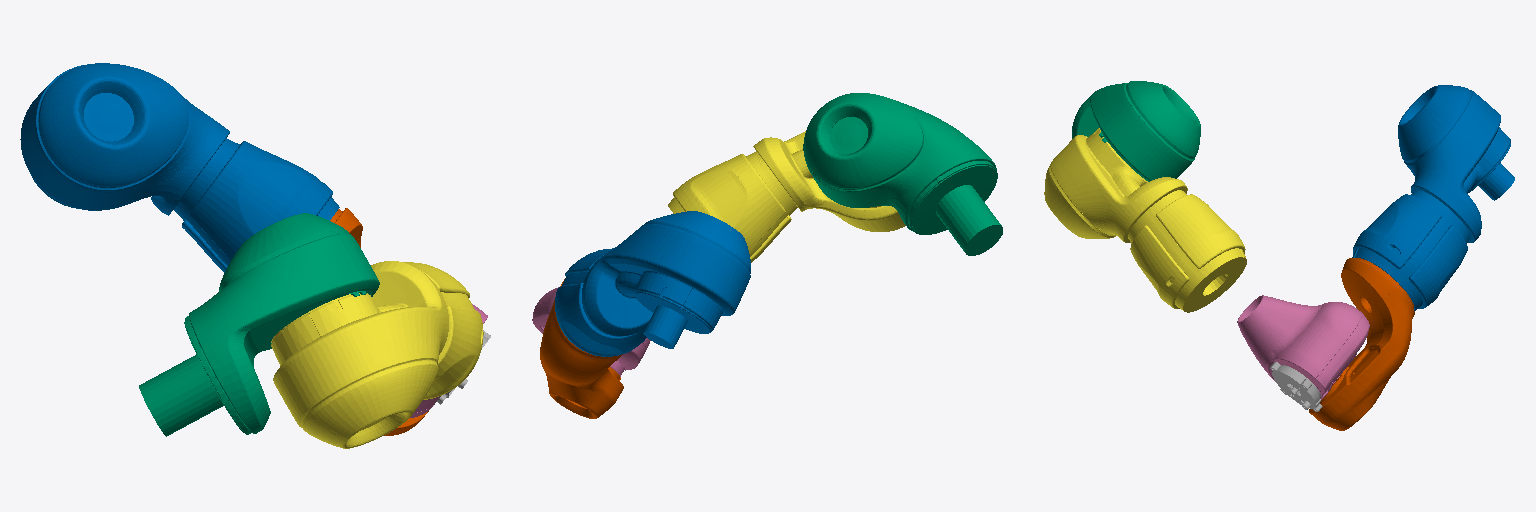
robot.urdf — IRB14000_rev01:
<?xml version="1.0" ?>
<robot name="IRB14000_rev01">

<link name="base_link">
  <inertial>
    <origin xyz="-0.1806083300371626 -3.533146342719389e-05 0.16501432096968796" rpy="0 0 0"/>
    <mass value="355.07112469493865"/>
    <inertia ixx="13.237211" iyy="14.852513" izz="6.557715" ixy="-0.00171" iyz="-0.012269" ixz="-0.102455"/>
  </inertial>
  <visual>
    <origin xyz="0 0 0" rpy="0 0 0"/>
    <geometry>
      <mesh filename="package://IRB14000_rev01_description/meshes/base_link.stl" scale="0.001 0.001 0.001"/>
    </geometry>
    <material name="silver"/>
  </visual>
  <collision>
    <origin xyz="0 0 0" rpy="0 0 0"/>
    <geometry>
      <mesh filename="package://IRB14000_rev01_description/meshes/base_link.stl" scale="0.001 0.001 0.001"/>
    </geometry>
  </collision>
</link>

<link name="IRB14000_rev01_Link1_L_v1_1">
  <inertial>
    <origin xyz="0.04073333496198922 0.040935345541061985 0.015261260614221506" rpy="0 0 0"/>
    <mass value="7.563188104200824"/>
    <inertia ixx="0.019728" iyy="0.015934" izz="0.025359" ixy="-0.007851" iyz="-0.004141" ixz="-0.002338"/>
  </inertial>
  <visual>
    <origin xyz="-0.051106 -0.071479 -0.413506" rpy="0 0 0"/>
    <geometry>
      <mesh filename="package://IRB14000_rev01_description/meshes/IRB14000_rev01_Link1_L_v1_1.stl" scale="0.001 0.001 0.001"/>
    </geometry>
    <material name="silver"/>
  </visual>
  <collision>
    <origin xyz="-0.051106 -0.071479 -0.413506" rpy="0 0 0"/>
    <geometry>
      <mesh filename="package://IRB14000_rev01_description/meshes/IRB14000_rev01_Link1_L_v1_1.stl" scale="0.001 0.001 0.001"/>
    </geometry>
  </collision>
</link>

<link name="IRB14000_rev01_Link2_L_v1_1">
  <inertial>
    <origin xyz="0.0596729752148423 -0.007882861134115904 0.03919033075530104" rpy="0 0 0"/>
    <mass value="11.070799725042463"/>
    <inertia ixx="0.020709" iyy="0.051591" izz="0.055916" ixy="-0.013939" iyz="-0.002565" ixz="-0.007311"/>
  </inertial>
  <visual>
    <origin xyz="-0.119234 -0.133836 -0.46976" rpy="0 0 0"/>
    <geometry>
      <mesh filename="package://IRB14000_rev01_description/meshes/IRB14000_rev01_Link2_L_v1_1.stl" scale="0.001 0.001 0.001"/>
    </geometry>
    <material name="silver"/>
  </visual>
  <collision>
    <origin xyz="-0.119234 -0.133836 -0.46976" rpy="0 0 0"/>
    <geometry>
      <mesh filename="package://IRB14000_rev01_description/meshes/IRB14000_rev01_Link2_L_v1_1.stl" scale="0.001 0.001 0.001"/>
    </geometry>
  </collision>
</link>

<link name="IRB14000_rev01_Link3_L_v1_1">
  <inertial>
    <origin xyz="0.05564804075747504 0.023708363033178914 -0.0061156014923368085" rpy="0 0 0"/>
    <mass value="5.579966748579002"/>
    <inertia ixx="0.006105" iyy="0.013925" izz="0.014722" ixy="-0.002356" iyz="-0.000158" ixz="0.001632"/>
  </inertial>
  <visual>
    <origin xyz="-0.275739 -0.165887 -0.543198" rpy="0 0 0"/>
    <geometry>
      <mesh filename="package://IRB14000_rev01_description/meshes/IRB14000_rev01_Link3_L_v1_1.stl" scale="0.001 0.001 0.001"/>
    </geometry>
    <material name="silver"/>
  </visual>
  <collision>
    <origin xyz="-0.275739 -0.165887 -0.543198" rpy="0 0 0"/>
    <geometry>
      <mesh filename="package://IRB14000_rev01_description/meshes/IRB14000_rev01_Link3_L_v1_1.stl" scale="0.001 0.001 0.001"/>
    </geometry>
  </collision>
</link>

<link name="IRB14000_rev01_Link4_L_v1_1">
  <inertial>
    <origin xyz="0.04754075136522001 -0.04572861064128683 -0.0007970276750837169" rpy="0 0 0"/>
    <mass value="9.26921603729842"/>
    <inertia ixx="0.022095" iyy="0.039944" izz="0.03382" ixy="0.008099" iyz="-0.005273" ixz="0.013896"/>
  </inertial>
  <visual>
    <origin xyz="-0.364071 -0.175484 -0.550654" rpy="0 0 0"/>
    <geometry>
      <mesh filename="package://IRB14000_rev01_description/meshes/IRB14000_rev01_Link4_L_v1_1.stl" scale="0.001 0.001 0.001"/>
    </geometry>
    <material name="silver"/>
  </visual>
  <collision>
    <origin xyz="-0.364071 -0.175484 -0.550654" rpy="0 0 0"/>
    <geometry>
      <mesh filename="package://IRB14000_rev01_description/meshes/IRB14000_rev01_Link4_L_v1_1.stl" scale="0.001 0.001 0.001"/>
    </geometry>
  </collision>
</link>

<link name="IRB14000_rev01_Link5_L_v1_1">
  <inertial>
    <origin xyz="0.023112773812127285 -0.011245840587332231 -0.04761625259631325" rpy="0 0 0"/>
    <mass value="2.695952167724137"/>
    <inertia ixx="0.005888" iyy="0.006149" izz="0.002687" ixy="0.000386" iyz="-0.001411" ixz="0.001593"/>
  </inertial>
  <visual>
    <origin xyz="-0.489888 -0.079615 -0.488717" rpy="0 0 0"/>
    <geometry>
      <mesh filename="package://IRB14000_rev01_description/meshes/IRB14000_rev01_Link5_L_v1_1.stl" scale="0.001 0.001 0.001"/>
    </geometry>
    <material name="silver"/>
  </visual>
  <collision>
    <origin xyz="-0.489888 -0.079615 -0.488717" rpy="0 0 0"/>
    <geometry>
      <mesh filename="package://IRB14000_rev01_description/meshes/IRB14000_rev01_Link5_L_v1_1.stl" scale="0.001 0.001 0.001"/>
    </geometry>
  </collision>
</link>

<link name="IRB14000_rev01_Link6_L_v1_1">
  <inertial>
    <origin xyz="-0.004491641394148149 -0.031703355476269665 0.05361645129751996" rpy="0 0 0"/>
    <mass value="3.922596322846886"/>
    <inertia ixx="0.004497" iyy="0.003956" izz="0.004715" ixy="-0.000211" iyz="6.9e-05" ixz="6e-06"/>
  </inertial>
  <visual>
    <origin xyz="-0.53039 -0.042127 -0.388389" rpy="0 0 0"/>
    <geometry>
      <mesh filename="package://IRB14000_rev01_description/meshes/IRB14000_rev01_Link6_L_v1_1.stl" scale="0.001 0.001 0.001"/>
    </geometry>
    <material name="silver"/>
  </visual>
  <collision>
    <origin xyz="-0.53039 -0.042127 -0.388389" rpy="0 0 0"/>
    <geometry>
      <mesh filename="package://IRB14000_rev01_description/meshes/IRB14000_rev01_Link6_L_v1_1.stl" scale="0.001 0.001 0.001"/>
    </geometry>
  </collision>
</link>

<link name="IRB14000_rev01_Link7_L_v1_1">
  <inertial>
    <origin xyz="0.000296172055413102 -0.00016299707911343673 -0.00037255473372488357" rpy="0 0 0"/>
    <mass value="0.2428975269458689"/>
    <inertia ixx="6.2e-05" iyy="6.2e-05" izz="6.1e-05" ixy="-4e-06" iyz="4e-06" ixz="-3e-06"/>
  </inertial>
  <visual>
    <origin xyz="-0.561519 -0.001956 -0.421181" rpy="0 0 0"/>
    <geometry>
      <mesh filename="package://IRB14000_rev01_description/meshes/IRB14000_rev01_Link7_L_v1_1.stl" scale="0.001 0.001 0.001"/>
    </geometry>
    <material name="silver"/>
  </visual>
  <collision>
    <origin xyz="-0.561519 -0.001956 -0.421181" rpy="0 0 0"/>
    <geometry>
      <mesh filename="package://IRB14000_rev01_description/meshes/IRB14000_rev01_Link7_L_v1_1.stl" scale="0.001 0.001 0.001"/>
    </geometry>
  </collision>
</link>

<link name="IRB14000_rev01_Link1_R_v1_1">
  <inertial>
    <origin xyz="0.03590191959142361 -0.008981490316361349 0.04687920510382226" rpy="0 0 0"/>
    <mass value="7.562885252614281"/>
    <inertia ixx="0.021585" iyy="0.02592" izz="0.01351" ixy="0.000943" iyz="0.003096" ixz="-0.00752"/>
  </inertial>
  <visual>
    <origin xyz="-0.051106 0.071479 -0.413506" rpy="0 0 0"/>
    <geometry>
      <mesh filename="package://IRB14000_rev01_description/meshes/IRB14000_rev01_Link1_R_v1_1.stl" scale="0.001 0.001 0.001"/>
    </geometry>
    <material name="silver"/>
  </visual>
  <collision>
    <origin xyz="-0.051106 0.071479 -0.413506" rpy="0 0 0"/>
    <geometry>
      <mesh filename="package://IRB14000_rev01_description/meshes/IRB14000_rev01_Link1_R_v1_1.stl" scale="0.001 0.001 0.001"/>
    </geometry>
  </collision>
</link>

<link name="IRB14000_rev01_Link2_R_v1_1">
  <inertial>
    <origin xyz="0.06524866774564085 -0.029020496675266974 0.0026699058149302624" rpy="0 0 0"/>
    <mass value="11.070765671821388"/>
    <inertia ixx="0.024291" iyy="0.057295" izz="0.046631" ixy="0.001655" iyz="0.000696" ixz="-0.018332"/>
  </inertial>
  <visual>
    <origin xyz="-0.116778 0.117581 -0.485846" rpy="0 0 0"/>
    <geometry>
      <mesh filename="package://IRB14000_rev01_description/meshes/IRB14000_rev01_Link2_R_v1_1.stl" scale="0.001 0.001 0.001"/>
    </geometry>
    <material name="silver"/>
  </visual>
  <collision>
    <origin xyz="-0.116778 0.117581 -0.485846" rpy="0 0 0"/>
    <geometry>
      <mesh filename="package://IRB14000_rev01_description/meshes/IRB14000_rev01_Link2_R_v1_1.stl" scale="0.001 0.001 0.001"/>
    </geometry>
  </collision>
</link>

<link name="IRB14000_rev01_Link3_R_v1_1">
  <inertial>
    <origin xyz="0.04932288762147974 0.014265009766034759 0.031259105192174896" rpy="0 0 0"/>
    <mass value="5.642166932410237"/>
    <inertia ixx="0.007831" iyy="0.014639" izz="0.013502" ixy="-0.002779" iyz="-0.000627" ixz="-0.003572"/>
  </inertial>
  <visual>
    <origin xyz="-0.275393 0.165741 -0.542998" rpy="0 0 0"/>
    <geometry>
      <mesh filename="package://IRB14000_rev01_description/meshes/IRB14000_rev01_Link3_R_v1_1.stl" scale="0.001 0.001 0.001"/>
    </geometry>
    <material name="silver"/>
  </visual>
  <collision>
    <origin xyz="-0.275393 0.165741 -0.542998" rpy="0 0 0"/>
    <geometry>
      <mesh filename="package://IRB14000_rev01_description/meshes/IRB14000_rev01_Link3_R_v1_1.stl" scale="0.001 0.001 0.001"/>
    </geometry>
  </collision>
</link>

<link name="IRB14000_rev01_Link4_R_v1_1">
  <inertial>
    <origin xyz="0.053239045077053626 0.008013758257861936 -0.0381220463896732" rpy="0 0 0"/>
    <mass value="9.26921058726044"/>
    <inertia ixx="0.024669" iyy="0.029392" izz="0.041799" ixy="-0.015818" iyz="0.004083" ixz="0.004859"/>
  </inertial>
  <visual>
    <origin xyz="-0.361722 0.159937 -0.566041" rpy="0 0 0"/>
    <geometry>
      <mesh filename="package://IRB14000_rev01_description/meshes/IRB14000_rev01_Link4_R_v1_1.stl" scale="0.001 0.001 0.001"/>
    </geometry>
    <material name="silver"/>
  </visual>
  <collision>
    <origin xyz="-0.361722 0.159937 -0.566041" rpy="0 0 0"/>
    <geometry>
      <mesh filename="package://IRB14000_rev01_description/meshes/IRB14000_rev01_Link4_R_v1_1.stl" scale="0.001 0.001 0.001"/>
    </geometry>
  </collision>
</link>

<link name="IRB14000_rev01_Link5_R_v1_1">
  <inertial>
    <origin xyz="0.017171119832822934 0.050571865014873506 -0.008697816332257802" rpy="0 0 0"/>
    <mass value="2.6959496517667163"/>
    <inertia ixx="0.006237" iyy="0.002281" izz="0.006205" ixy="-0.00125" iyz="0.001275" ixz="0.000181"/>
  </inertial>
  <visual>
    <origin xyz="-0.489888 0.079615 -0.488717" rpy="0 0 0"/>
    <geometry>
      <mesh filename="package://IRB14000_rev01_description/meshes/IRB14000_rev01_Link5_R_v1_1.stl" scale="0.001 0.001 0.001"/>
    </geometry>
    <material name="silver"/>
  </visual>
  <collision>
    <origin xyz="-0.489888 0.079615 -0.488717" rpy="0 0 0"/>
    <geometry>
      <mesh filename="package://IRB14000_rev01_description/meshes/IRB14000_rev01_Link5_R_v1_1.stl" scale="0.001 0.001 0.001"/>
    </geometry>
  </collision>
</link>

<link name="IRB14000_rev01_Link6_R_v1_1">
  <inertial>
    <origin xyz="0.006161361129946474 -0.03880483959457281 -0.01616135981646699" rpy="0 0 0"/>
    <mass value="3.922618516662671"/>
    <inertia ixx="0.004551" iyy="0.004709" izz="0.003908" ixy="-2.4e-05" iyz="-0.000104" ixz="-0.000109"/>
  </inertial>
  <visual>
    <origin xyz="-0.522382 -0.010877 -0.440844" rpy="0 0 0"/>
    <geometry>
      <mesh filename="package://IRB14000_rev01_description/meshes/IRB14000_rev01_Link6_R_v1_1.stl" scale="0.001 0.001 0.001"/>
    </geometry>
    <material name="silver"/>
  </visual>
  <collision>
    <origin xyz="-0.522382 -0.010877 -0.440844" rpy="0 0 0"/>
    <geometry>
      <mesh filename="package://IRB14000_rev01_description/meshes/IRB14000_rev01_Link6_R_v1_1.stl" scale="0.001 0.001 0.001"/>
    </geometry>
  </collision>
</link>

<link name="IRB14000_rev01_Link7_R_v1_1">
  <inertial>
    <origin xyz="-0.0003231019871375862 -0.0002513424439419265 0.00039272650313054713" rpy="0 0 0"/>
    <mass value="0.3271520076893722"/>
    <inertia ixx="8.2e-05" iyy="8.2e-05" izz="8.1e-05" ixy="8e-06" iyz="-8e-06" ixz="-7e-06"/>
  </inertial>
  <visual>
    <origin xyz="-0.561519 0.001956 -0.421181" rpy="0 0 0"/>
    <geometry>
      <mesh filename="package://IRB14000_rev01_description/meshes/IRB14000_rev01_Link7_R_v1_1.stl" scale="0.001 0.001 0.001"/>
    </geometry>
    <material name="silver"/>
  </visual>
  <collision>
    <origin xyz="-0.561519 0.001956 -0.421181" rpy="0 0 0"/>
    <geometry>
      <mesh filename="package://IRB14000_rev01_description/meshes/IRB14000_rev01_Link7_R_v1_1.stl" scale="0.001 0.001 0.001"/>
    </geometry>
  </collision>
</link>

<joint name="j1_left" type="continuous">
  <origin xyz="0.051106 0.071479 0.413506" rpy="0 0 0"/>
  <parent link="base_link"/>
  <child link="IRB14000_rev01_Link1_L_v1_1"/>
  <axis xyz="0.813798 0.34202 0.469846"/>
</joint>

<joint name="j2_left" type="continuous">
  <origin xyz="0.068128 0.062357 0.056254" rpy="0 0 0"/>
  <parent link="IRB14000_rev01_Link1_L_v1_1"/>
  <child link="IRB14000_rev01_Link2_L_v1_1"/>
  <axis xyz="0.106778 0.706717 -0.699392"/>
</joint>

<joint name="j3_left" type="continuous">
  <origin xyz="0.156505 0.032051 0.073438" rpy="0 0 0"/>
  <parent link="IRB14000_rev01_Link2_L_v1_1"/>
  <child link="IRB14000_rev01_Link3_L_v1_1"/>
  <axis xyz="0.813798 0.34202 0.469846"/>
</joint>

<joint name="j4_left" type="continuous">
  <origin xyz="0.088332 0.009597 0.007456" rpy="0 0 0"/>
  <parent link="IRB14000_rev01_Link3_L_v1_1"/>
  <child link="IRB14000_rev01_Link4_L_v1_1"/>
  <axis xyz="-0.106778 -0.706717 0.699392"/>
</joint>

<joint name="j5_left" type="continuous">
  <origin xyz="0.125817 -0.095869 -0.061937" rpy="0 0 0"/>
  <parent link="IRB14000_rev01_Link4_L_v1_1"/>
  <child link="IRB14000_rev01_Link5_L_v1_1"/>
  <axis xyz="-0.571255 0.619333 0.538605"/>
</joint>

<joint name="j6_left" type="continuous">
  <origin xyz="0.040502 -0.037488 -0.100328" rpy="0 0 0"/>
  <parent link="IRB14000_rev01_Link5_L_v1_1"/>
  <child link="IRB14000_rev01_Link6_L_v1_1"/>
  <axis xyz="0.106778 0.706717 -0.699392"/>
</joint>

<joint name="j7_left" type="continuous">
  <origin xyz="0.031129 -0.040171 0.032792" rpy="0 0 0"/>
  <parent link="IRB14000_rev01_Link6_L_v1_1"/>
  <child link="IRB14000_rev01_Link7_L_v1_1"/>
  <axis xyz="-0.571255 0.619333 0.538605"/>
</joint>

<joint name="j1_right" type="continuous">
  <origin xyz="0.051106 -0.071479 0.413506" rpy="0 0 0"/>
  <parent link="base_link"/>
  <child link="IRB14000_rev01_Link1_R_v1_1"/>
  <axis xyz="0.813798 -0.34202 0.469846"/>
</joint>

<joint name="j2_right" type="continuous">
  <origin xyz="0.065672 -0.046102 0.07234" rpy="0 0 0"/>
  <parent link="IRB14000_rev01_Link1_R_v1_1"/>
  <child link="IRB14000_rev01_Link2_R_v1_1"/>
  <axis xyz="0.106778 -0.706717 -0.699392"/>
</joint>

<joint name="j3_right" type="continuous">
  <origin xyz="0.158615 -0.04816 0.057152" rpy="0 0 0"/>
  <parent link="IRB14000_rev01_Link2_R_v1_1"/>
  <child link="IRB14000_rev01_Link3_R_v1_1"/>
  <axis xyz="-0.813798 0.34202 -0.469846"/>
</joint>

<joint name="j4_right" type="continuous">
  <origin xyz="0.086329 0.005804 0.023043" rpy="0 0 0"/>
  <parent link="IRB14000_rev01_Link3_R_v1_1"/>
  <child link="IRB14000_rev01_Link4_R_v1_1"/>
  <axis xyz="0.106778 -0.706717 -0.699392"/>
</joint>

<joint name="j5_right" type="continuous">
  <origin xyz="0.128166 0.080322 -0.077324" rpy="0 0 0"/>
  <parent link="IRB14000_rev01_Link4_R_v1_1"/>
  <child link="IRB14000_rev01_Link5_R_v1_1"/>
  <axis xyz="-0.571255 -0.619333 0.538605"/>
</joint>

<joint name="j6_right" type="continuous">
  <origin xyz="0.032494 0.090492 -0.047873" rpy="0 0 0"/>
  <parent link="IRB14000_rev01_Link5_R_v1_1"/>
  <child link="IRB14000_rev01_Link6_R_v1_1"/>
  <axis xyz="-0.106778 0.706717 0.699392"/>
</joint>

<joint name="j7_right" type="continuous">
  <origin xyz="0.039137 -0.012833 -0.019663" rpy="0 0 0"/>
  <parent link="IRB14000_rev01_Link6_R_v1_1"/>
  <child link="IRB14000_rev01_Link7_R_v1_1"/>
  <axis xyz="-0.571255 -0.619333 0.538605"/>
</joint>

</robot>

--- Render facts (derived) ---
3 views of the same robot in one strip: view 1: azimuth 30°, elevation 25°; view 2: azimuth 150°, elevation 25°; view 3: azimuth 270°, elevation 25° (orthographic).
Robot: IRB14000_rev01 — 15 links, 14 joints (14 continuous); root link base_link; default pose: all joints at 0.
Visible links, largest first — view 1: IRB14000_rev01_Link4_L_v1_1, IRB14000_rev01_Link4_R_v1_1, IRB14000_rev01_Link3_R_v1_1, IRB14000_rev01_Link5_L_v1_1; view 2: IRB14000_rev01_Link3_R_v1_1, IRB14000_rev01_Link4_L_v1_1, IRB14000_rev01_Link4_R_v1_1, IRB14000_rev01_Link5_L_v1_1, IRB14000_rev01_Link6_L_v1_1; view 3: IRB14000_rev01_Link4_L_v1_1, IRB14000_rev01_Link4_R_v1_1, IRB14000_rev01_Link3_R_v1_1, IRB14000_rev01_Link5_L_v1_1, IRB14000_rev01_Link6_L_v1_1, IRB14000_rev01_Link7_L_v1_1.
Boxes of the visible links, left/top/right/bottom form: IRB14000_rev01_Link4_L_v1_1: left=20, top=63, right=339, bottom=272; IRB14000_rev01_Link4_R_v1_1: left=271, top=261, right=483, bottom=448; IRB14000_rev01_Link3_R_v1_1: left=139, top=213, right=379, bottom=436; IRB14000_rev01_Link5_L_v1_1: left=330, top=208, right=428, bottom=435; IRB14000_rev01_Link3_R_v1_1: left=803, top=93, right=1002, bottom=255; IRB14000_rev01_Link4_L_v1_1: left=555, top=211, right=750, bottom=356; IRB14000_rev01_Link4_R_v1_1: left=668, top=131, right=905, bottom=262; IRB14000_rev01_Link5_L_v1_1: left=540, top=279, right=623, bottom=418; IRB14000_rev01_Link6_L_v1_1: left=532, top=287, right=650, bottom=376; IRB14000_rev01_Link4_L_v1_1: left=1352, top=85, right=1514, bottom=310; IRB14000_rev01_Link4_R_v1_1: left=1044, top=128, right=1246, bottom=312; IRB14000_rev01_Link3_R_v1_1: left=1072, top=81, right=1200, bottom=181; IRB14000_rev01_Link5_L_v1_1: left=1309, top=258, right=1414, bottom=430; IRB14000_rev01_Link6_L_v1_1: left=1237, top=295, right=1369, bottom=399; IRB14000_rev01_Link7_L_v1_1: left=1270, top=362, right=1322, bottom=411.
Size in the robot's own frame: 0.3705 by 0.4467 by 0.275 metres.
6 mesh visuals loaded from 15 distinct referenced files (6 binary STL); not drawn: 9 (reference not matched to a file when rendering).